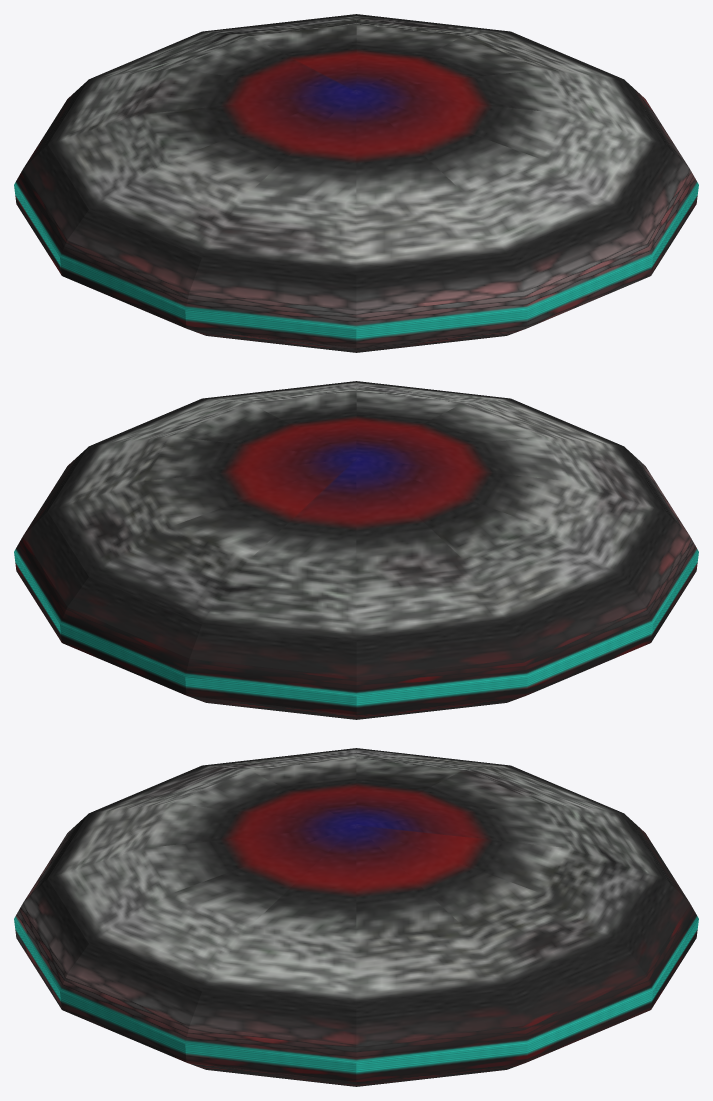
The model's file is SmallUFO.FBX.
The picture shows the model from 3 angles, top to bottom: view 1: azimuth 30°, elevation 25°; view 2: azimuth 150°, elevation 25°; view 3: azimuth 270°, elevation 25°; orthographic projection.
Visible parts, largest first — view 1: UFO; view 2: UFO; view 3: UFO.
Boxes of the visible parts, x1,y1,x2,y2 form: UFO: (14,14,698,352); UFO: (14,381,698,719); UFO: (14,748,698,1086).
Size of the model in its own units: 12.72 by 3.68 by 12.72.
Materials: 1 (1 with a texture image).
